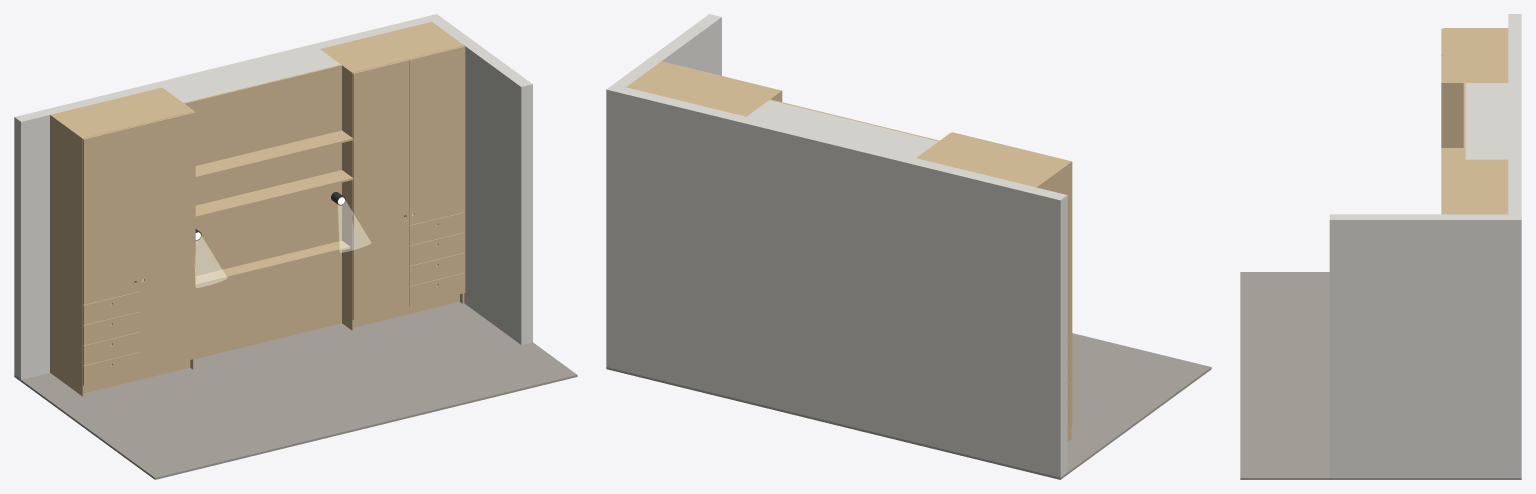
Rendered from two-birch-ply-wardrobes-chiswick-built.glb.
3 views of the same model, side by side, from view 1: azimuth 30°, elevation 25°; view 2: azimuth 150°, elevation 25°; view 3: azimuth 270°, elevation 25° (orthographic). The views are drawn at different scales.
Parts seen in each view (by area): view 1: Room: floor, Chimney breast: Facing panel, Room: side wall, Right wardrobe: Door 1 (hinged left), Left wardrobe: Door 2 (hinged right), Room: back wall, Chimney breast: Removable panel, Left wardrobe: Door 1 (hinged left), Right wardrobe: Door 2 (hinged right), Left wardrobe: Side, left, Right wardrobe: Top, Left wardrobe: Top (+17 smaller); view 2: Room: back wall, Room: floor, Room: side wall, Right wardrobe: Top, Left wardrobe: Top, Room: chimney breast, Left wardrobe: Side, left; view 3: Room: side wall, Room: floor, Right wardrobe: Top, Left wardrobe: Top, Room: chimney breast, Room: back wall, Left wardrobe: Side, right.
Boxes of the visible parts, x1,y1,x2,y2 form: Room: floor: (14,302,577,479); Chimney breast: Facing panel: (184,64,341,275); Room: side wall: (425,14,532,344); Right wardrobe: Door 1 (hinged left): (352,59,409,319); Left wardrobe: Door 2 (hinged right): (139,111,195,371); Room: back wall: (14,17,431,379); Chimney breast: Removable panel: (195,250,341,358); Left wardrobe: Door 1 (hinged left): (83,125,139,304); Right wardrobe: Door 2 (hinged right): (408,46,465,225); Left wardrobe: Side, left: (50,114,84,396); Right wardrobe: Top: (322,22,462,72); Left wardrobe: Top: (52,88,192,138); Room: back wall: (618,87,1067,477); Room: floor: (606,333,1211,479); Room: side wall: (606,14,721,369); Right wardrobe: Top: (628,62,778,116); Left wardrobe: Top: (918,133,1069,186); Room: chimney breast: (747,100,938,157); Left wardrobe: Side, left: (1035,161,1071,441); Room: side wall: (1329,214,1521,477); Room: floor: (1240,272,1521,479); Right wardrobe: Top: (1443,160,1508,213); Left wardrobe: Top: (1443,29,1508,81); Room: chimney breast: (1465,83,1508,159); Room: back wall: (1508,14,1521,214); Left wardrobe: Side, right: (1443,82,1508,147).
Bounding box in the file's own units: 4.37 × 2.57 × 2.52.
